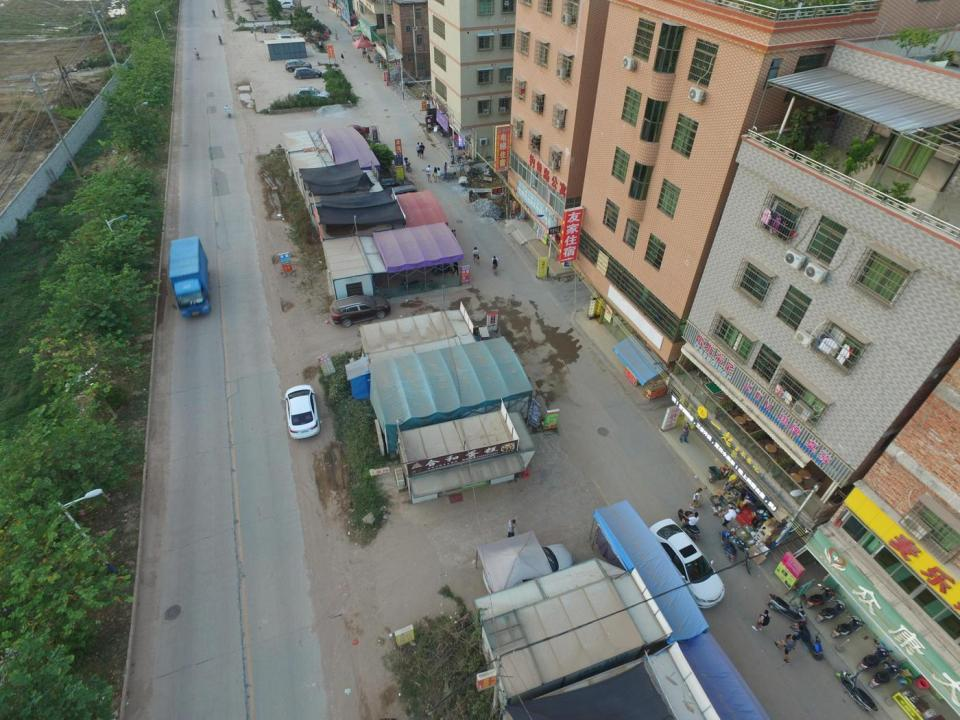car: (648, 518, 724, 610), (489, 542, 576, 590), (284, 384, 321, 438), (330, 297, 392, 325), (296, 88, 329, 99), (285, 59, 311, 72), (294, 67, 321, 78), (275, 34, 299, 46), (278, 0, 297, 11)
truck: (169, 236, 210, 317)
